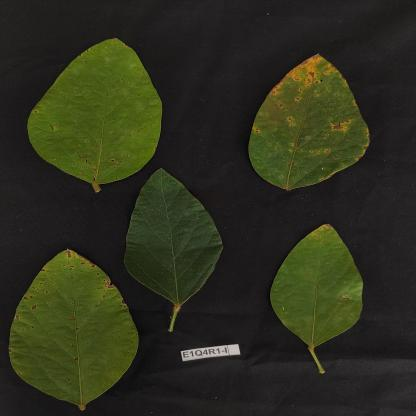label: (173, 337, 255, 362)
leaflets: (1, 238, 141, 407), (20, 36, 166, 181), (241, 46, 378, 189), (117, 157, 223, 310), (272, 219, 375, 349)
